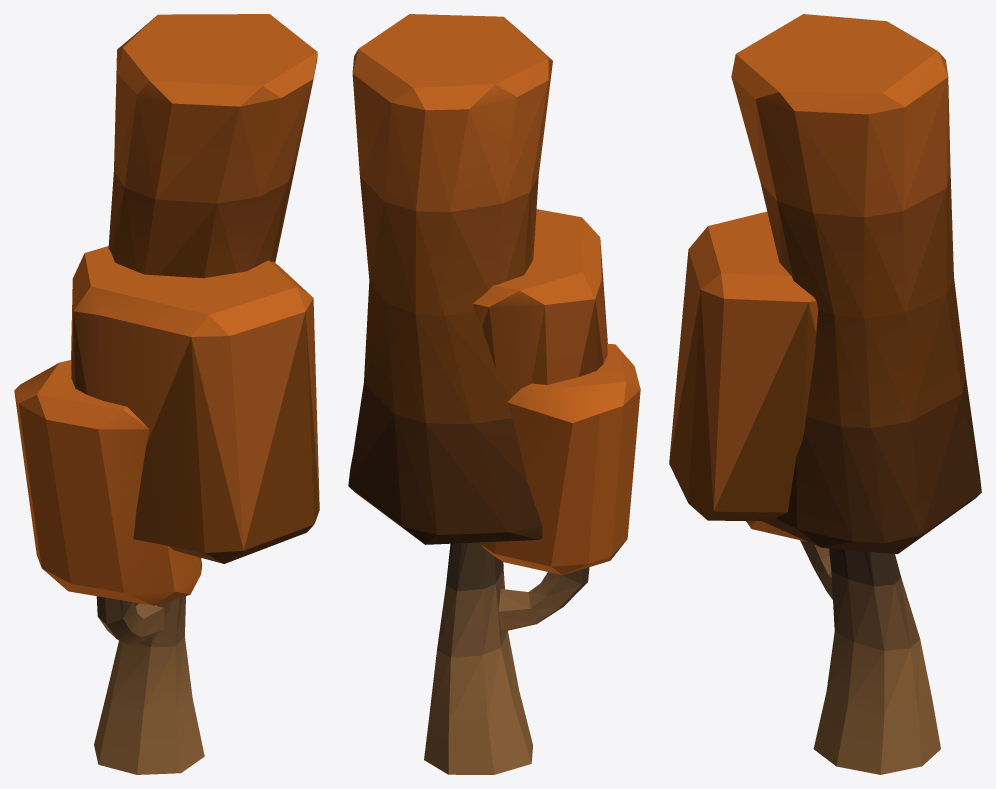
Rendered from angular_tree_stack__autumn.glb.
The picture shows the model from 3 angles, left to right: view 1: azimuth 30°, elevation 25°; view 2: azimuth 150°, elevation 25°; view 3: azimuth 270°, elevation 25°; orthographic projection. The views are drawn at different scales.
Size of the model in its own units: 2.04 by 5 by 1.98.
